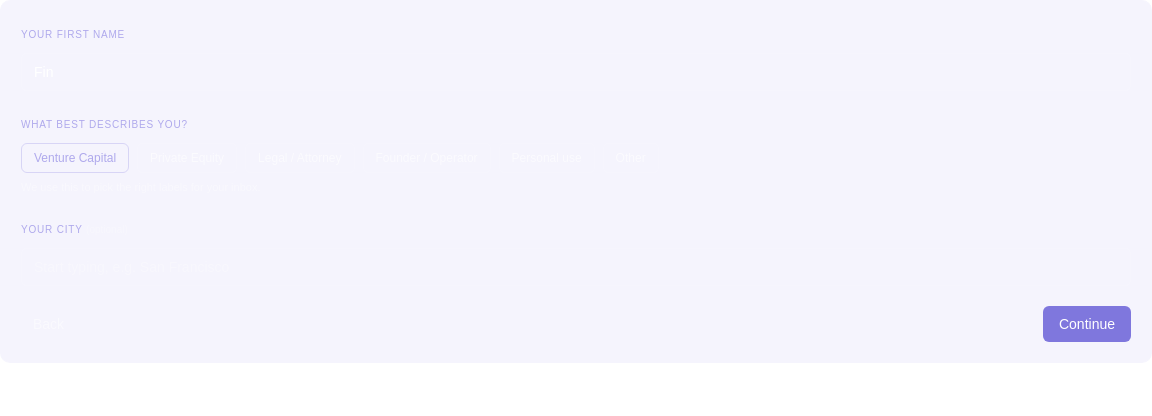
QuizForm › does not navigate when advance fails
The image size is (1152, 416).
What coordinates should you click on to do the following:
click the button "Continue"
I would click on:
 (1087, 324)
Its box is [1043,306,1131,342].
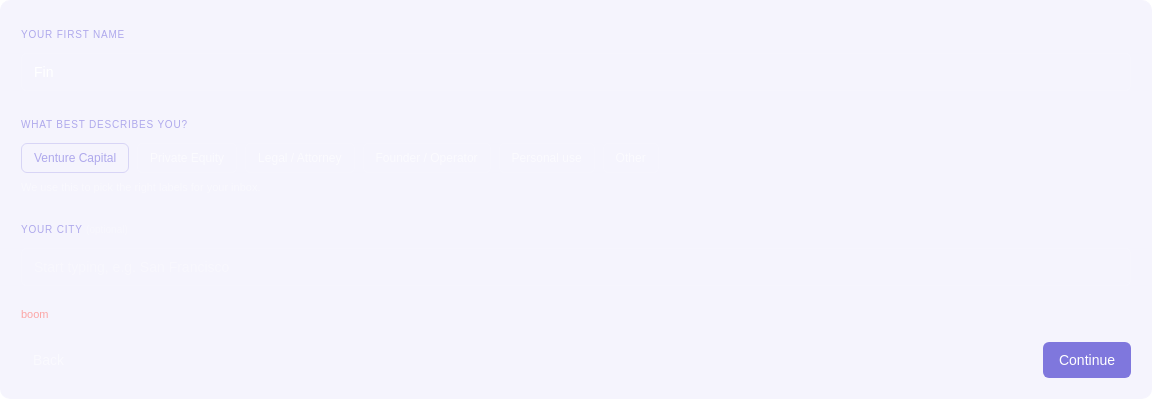
Expected: the text "boom" is shown, [21,308,48,320]
